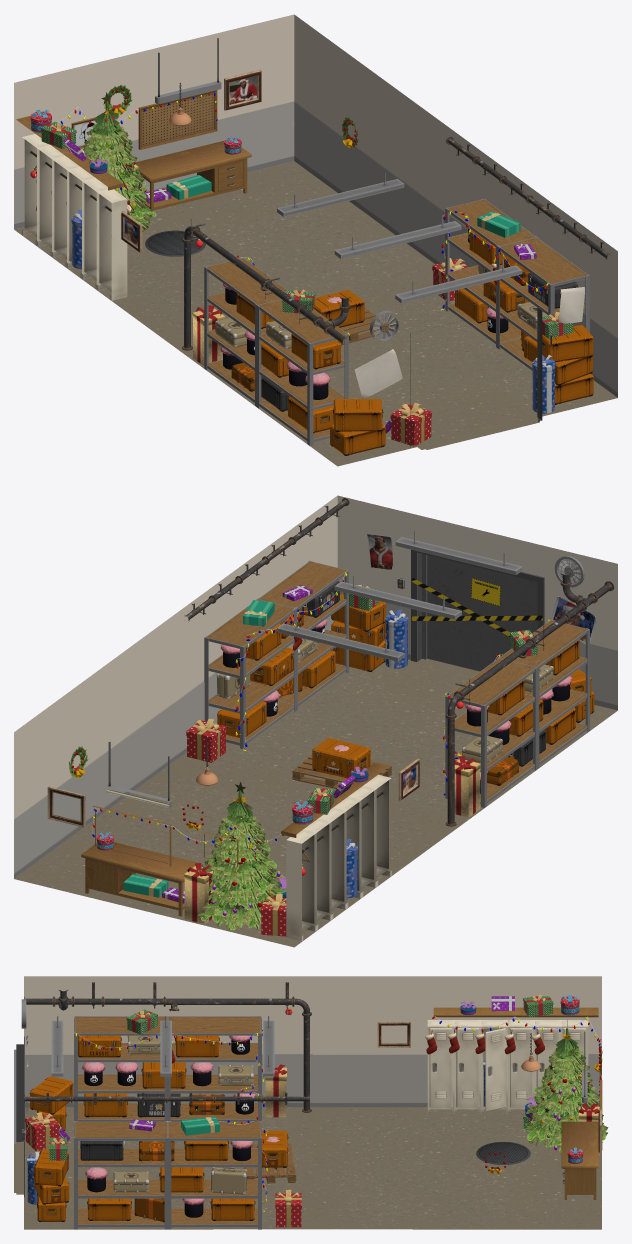
File: Lobby_Christmas.glb
The picture shows the model from 3 angles, top to bottom: view 1: azimuth 30°, elevation 25°; view 2: azimuth 150°, elevation 25°; view 3: azimuth 270°, elevation 25°; orthographic projection. The views are drawn at different scales.
Visible parts, largest first — view 1: lobby_cube.002, lobby_garage.002, Rack_3.002, Rack_4.002, Table.002, Rack_1.002, Rack_2.002, Frame_weapons.002, Pipes_Right.002, Locker (4).002, christmas_tree, Locker (3).002 (+36 smaller); view 2: lobby_garage.002, lobby_cube.002, Lobby_Garage.002, Rack_1.002, Rack_4.002, christmas_tree, Rack_3.002, Table.002, Rack_2.002, Pipes_Right.002, Locker (1).002, model_0.002 (+34 smaller); view 3: lobby_cube.002, lobby_garage.002, Rack_2.002, Rack_1.002, Rack_4.002, Rack_3.002, christmas_tree, Pipes_Right.002, Table.002, Locker_Door.017, Locker_Door.014, Locker_Door.016 (+59 smaller).
Boxes of the visible parts, x1,y1,x2,y2 form: lobby_cube.002: (14,14,456,347); lobby_garage.002: (176,133,617,466); Rack_3.002: (256,299,348,445); Rack_4.002: (204,257,287,406); Table.002: (135,141,251,216); Rack_1.002: (445,198,536,349); Rack_2.002: (499,237,589,370); Frame_weapons.002: (138,90,217,149); Pipes_Right.002: (182,218,350,350); Locker (4).002: (96,189,127,300); christmas_tree: (83,92,152,231); Locker (3).002: (52,156,79,267); lobby_garage.002: (175,495,617,828); lobby_cube.002: (14,614,455,947); Lobby_Garage.002: (411,549,544,675); Rack_1.002: (204,599,297,748); Rack_4.002: (445,658,537,807); christmas_tree: (202,782,280,928); Rack_3.002: (497,619,589,769); Table.002: (81,842,202,916); Rack_2.002: (257,560,348,706); Pipes_Right.002: (445,573,614,826); Locker (1).002: (286,829,316,941); model_0.002: (198,814,286,930); lobby_cube.002: (312,976,601,1229); lobby_garage.002: (24,976,312,1229); Rack_2.002: (74,1121,168,1229); Rack_1.002: (165,1121,261,1229); Rack_4.002: (167,1016,261,1121); Rack_3.002: (74,1016,170,1121); christmas_tree: (525,1020,608,1147); Pipes_Right.002: (24,982,311,1112); Table.002: (561,1121,598,1199); Locker_Door.017: (456,1028,479,1107); Locker_Door.014: (485,1028,506,1111); Locker_Door.016: (429,1028,452,1107).
Bounding box in the file's own units: 5.73 × 2.98 × 11.84.
23 materials, 23 textured.
